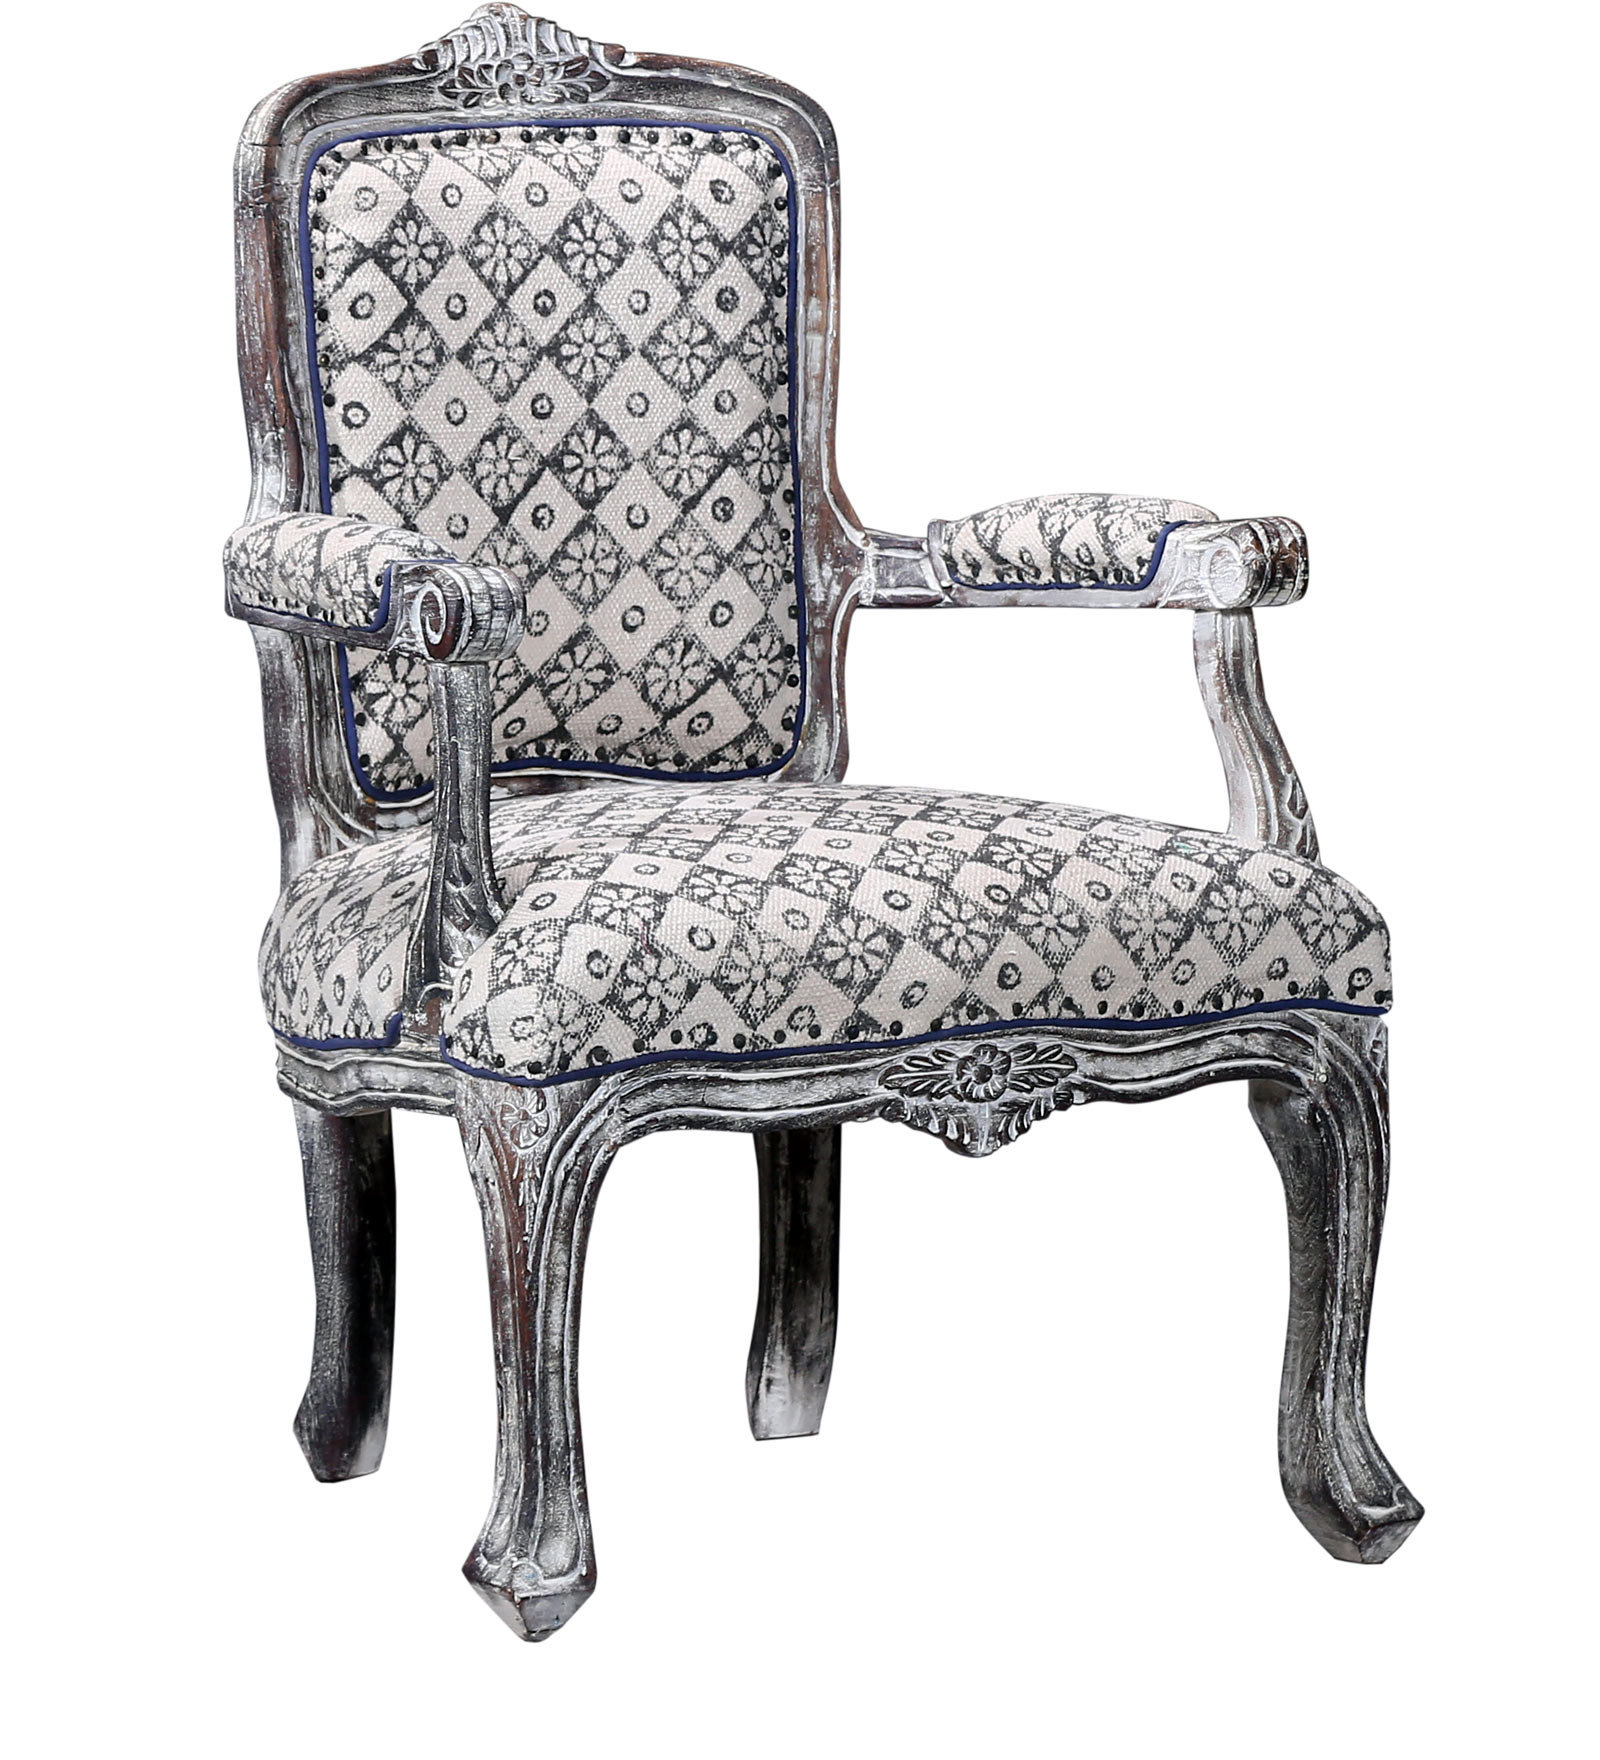Elton Arm Chair in Grey Colour by Bohemiana: (190, 5, 1464, 1671)
